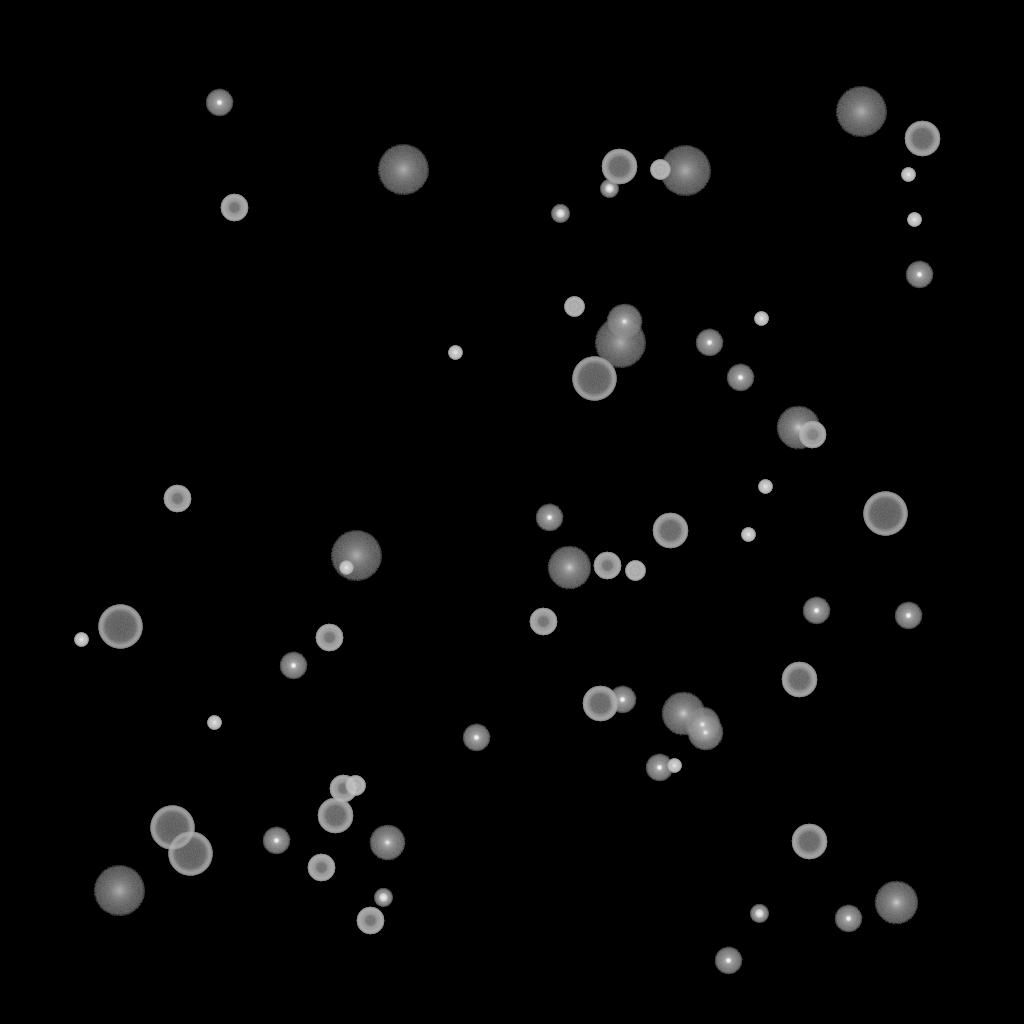depth:-10: (462, 724, 490, 752), (645, 754, 673, 782), (894, 602, 922, 630), (608, 686, 636, 714), (279, 652, 307, 680), (262, 827, 290, 855), (834, 905, 862, 933), (726, 364, 754, 392), (802, 597, 830, 625), (695, 329, 723, 357), (205, 89, 233, 117), (714, 947, 742, 975), (535, 504, 563, 532), (905, 261, 933, 289)
depth:-20: (600, 180, 618, 198), (750, 905, 768, 923), (374, 889, 392, 907), (551, 205, 569, 223)
depth:-30: (339, 561, 353, 575), (74, 633, 88, 647), (754, 312, 768, 326), (207, 716, 221, 730), (448, 346, 462, 360), (741, 528, 755, 542), (758, 480, 772, 494), (901, 168, 915, 182), (907, 213, 921, 227), (667, 759, 681, 773)
depth:-40: (625, 561, 645, 581), (564, 297, 584, 317), (650, 160, 670, 180), (345, 776, 365, 796)
depth:-50: (163, 485, 191, 513), (798, 421, 826, 449), (529, 608, 557, 636), (220, 194, 248, 222), (593, 552, 621, 580), (329, 775, 357, 803), (315, 624, 343, 652), (356, 907, 384, 935), (307, 854, 335, 882)
depth:-60: (652, 513, 688, 549), (781, 662, 817, 698), (582, 686, 618, 722), (791, 824, 827, 860), (601, 149, 637, 185), (904, 121, 940, 157), (317, 798, 353, 834)
depth:-70: (168, 832, 212, 876), (572, 357, 616, 401), (150, 806, 194, 850), (98, 605, 142, 649), (863, 492, 907, 536)
depth:0: (687, 715, 723, 751), (606, 304, 642, 340), (684, 707, 720, 743), (369, 825, 405, 861)
depth:10: (661, 692, 705, 736), (547, 546, 591, 590), (874, 881, 918, 925), (776, 406, 820, 450)
depth:20: (93, 866, 145, 916), (377, 145, 429, 195), (835, 87, 887, 137), (594, 318, 646, 368), (659, 146, 711, 196), (330, 531, 382, 581)
